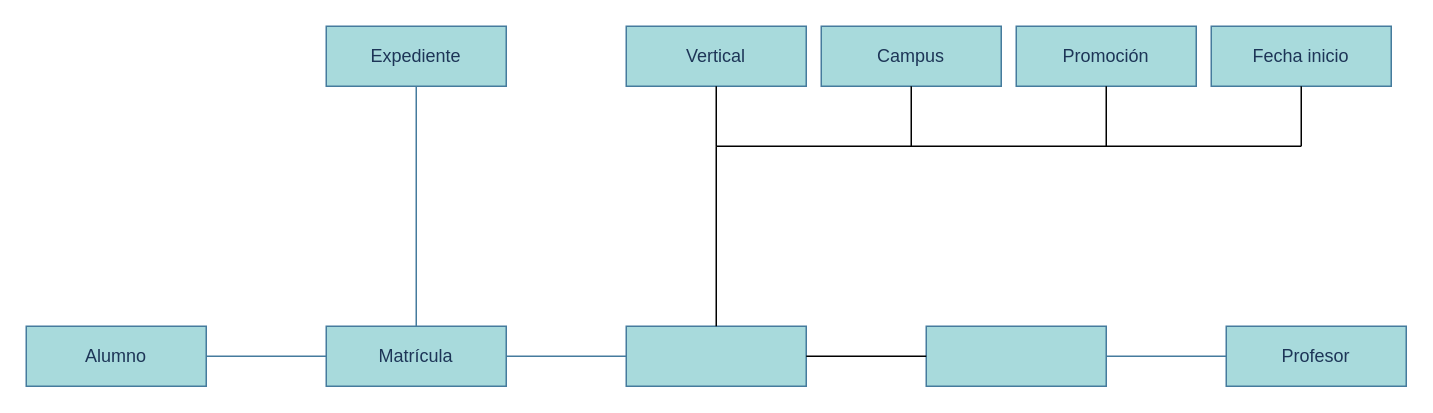
The diagram is 1433 pixels wide and 413 high, and some of its shapes have lost their labels. The centre of each missing label's shape, as x and y in pixels:
Asignación: the point at 1015,355
Clase: the point at 715,355
